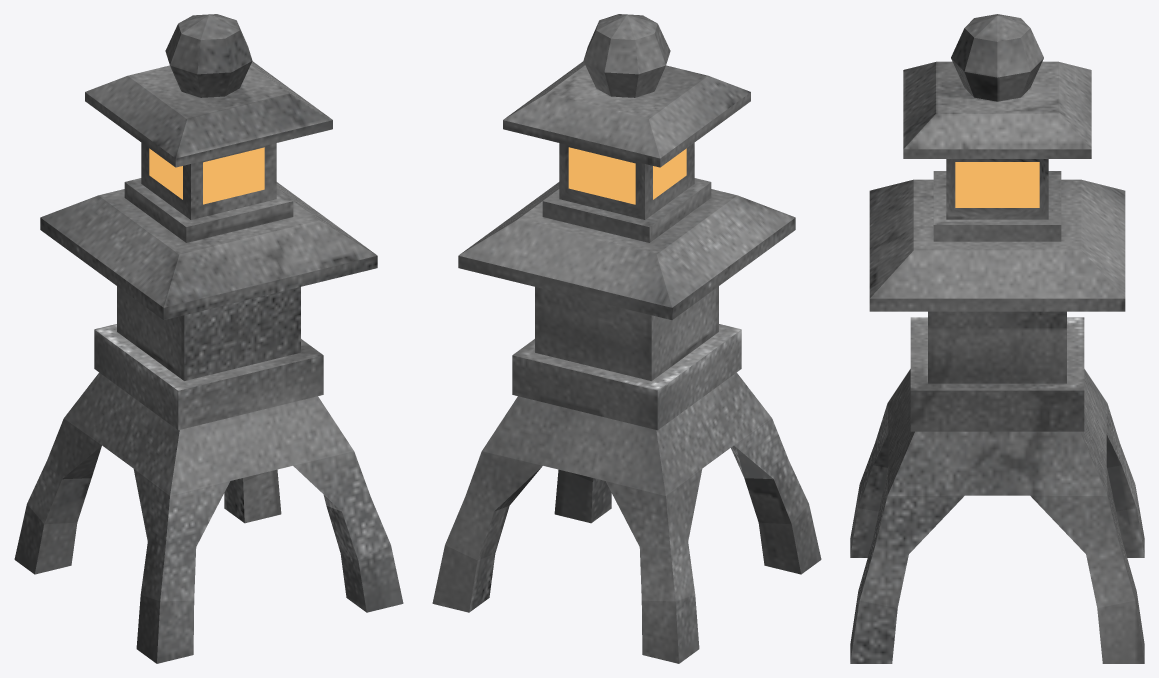
The model's file is Pagoda03.glb.
3 renders of one model, left to right at view 1: azimuth 30°, elevation 25°; view 2: azimuth 150°, elevation 25°; view 3: azimuth 270°, elevation 25°, orthographic. The views are drawn at different scales.
Visible parts, largest first — view 1: Zen Pagoda 03; view 2: Zen Pagoda 03; view 3: Zen Pagoda 03.
Boxes of the visible parts, x1,y1,x2,y2 form: Zen Pagoda 03: (14,14,403,663); Zen Pagoda 03: (432,14,821,663); Zen Pagoda 03: (850,14,1144,663).
Size of what is drawn, in the model's own units: 0.8925 by 1.96 by 0.8925.
2 materials, 1 textured.
